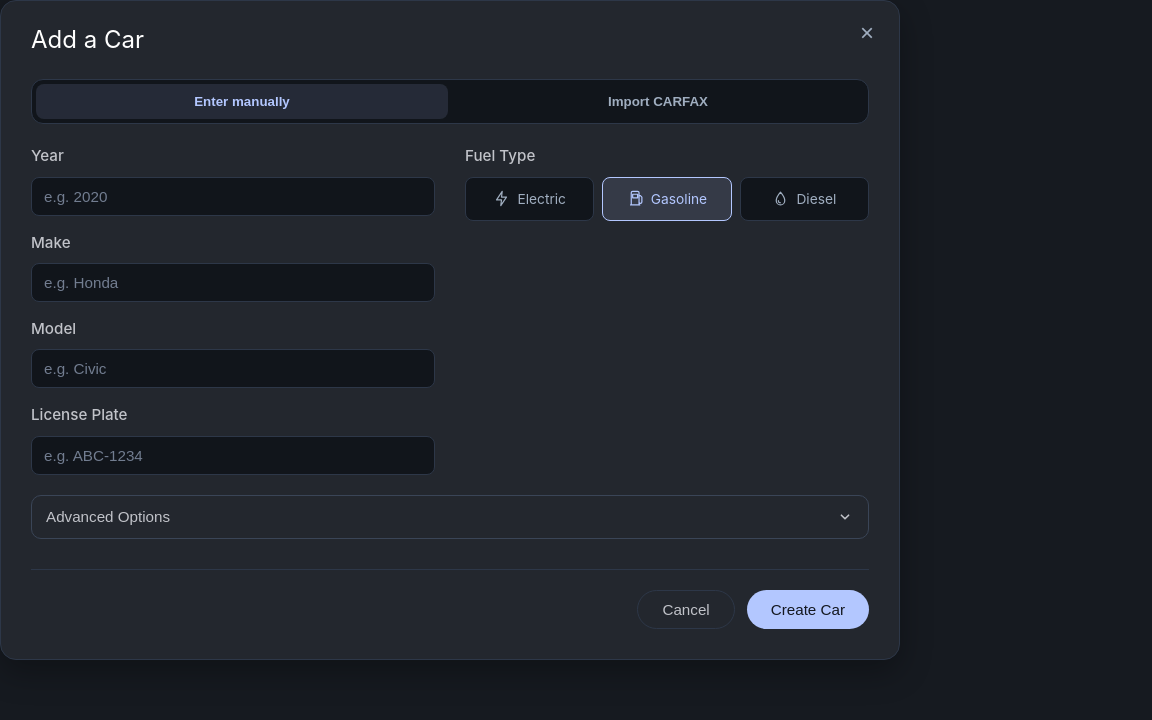
Test case: CarForm › keeps purchase prices formatted to two decimal places
This screenshot has width=1152, height=720.
Click the button with class "advanced-toggle" at (108, 517), box [32,496,868,538]
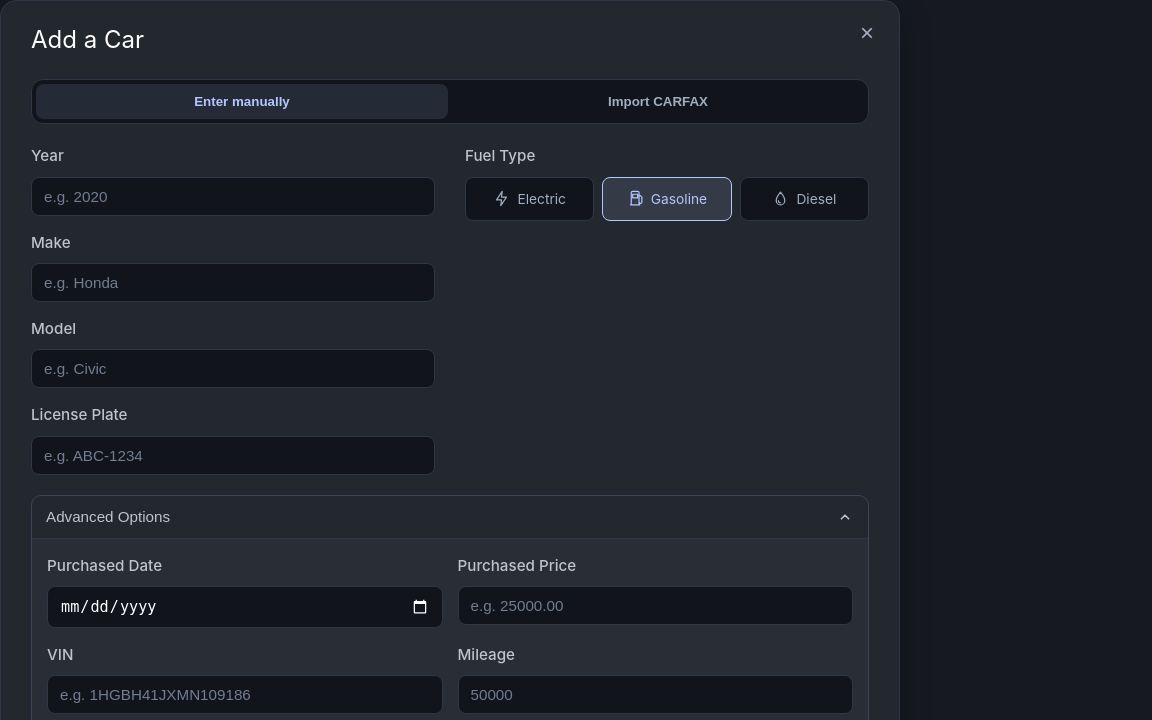
Type "2000.1" into the field with placeholder "e.g. 25000.00" at (655, 606), box [458,586,853,625]
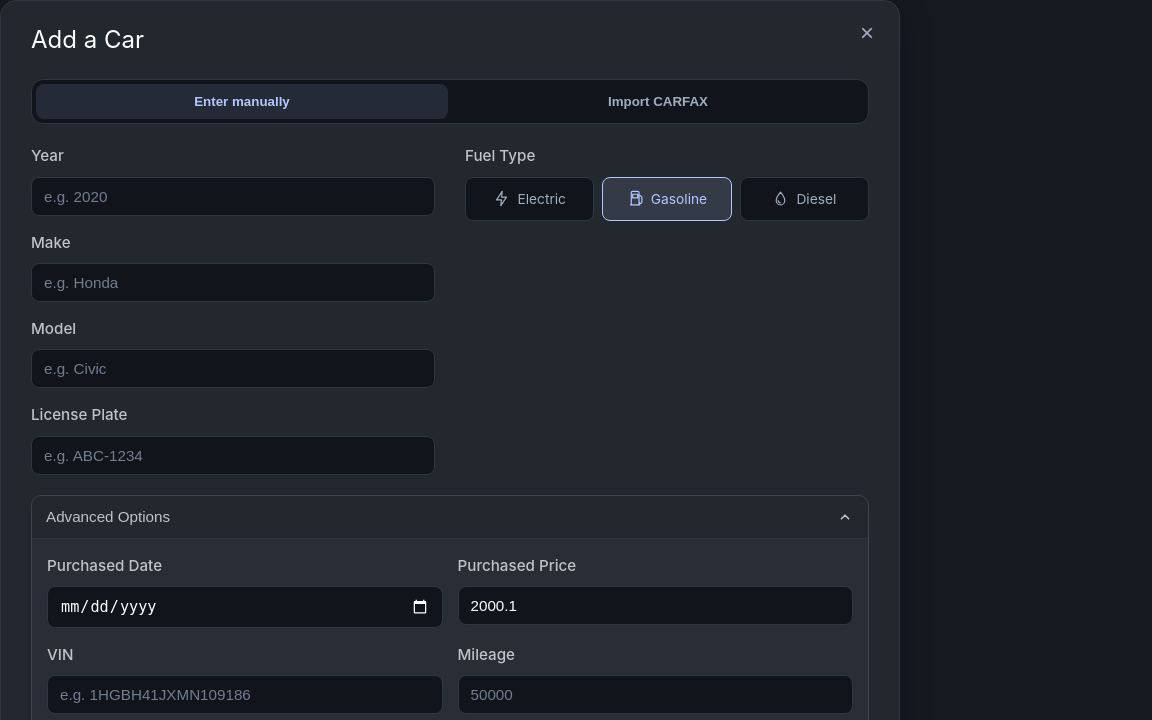
Leave the 5th field, box [458,586,853,625]
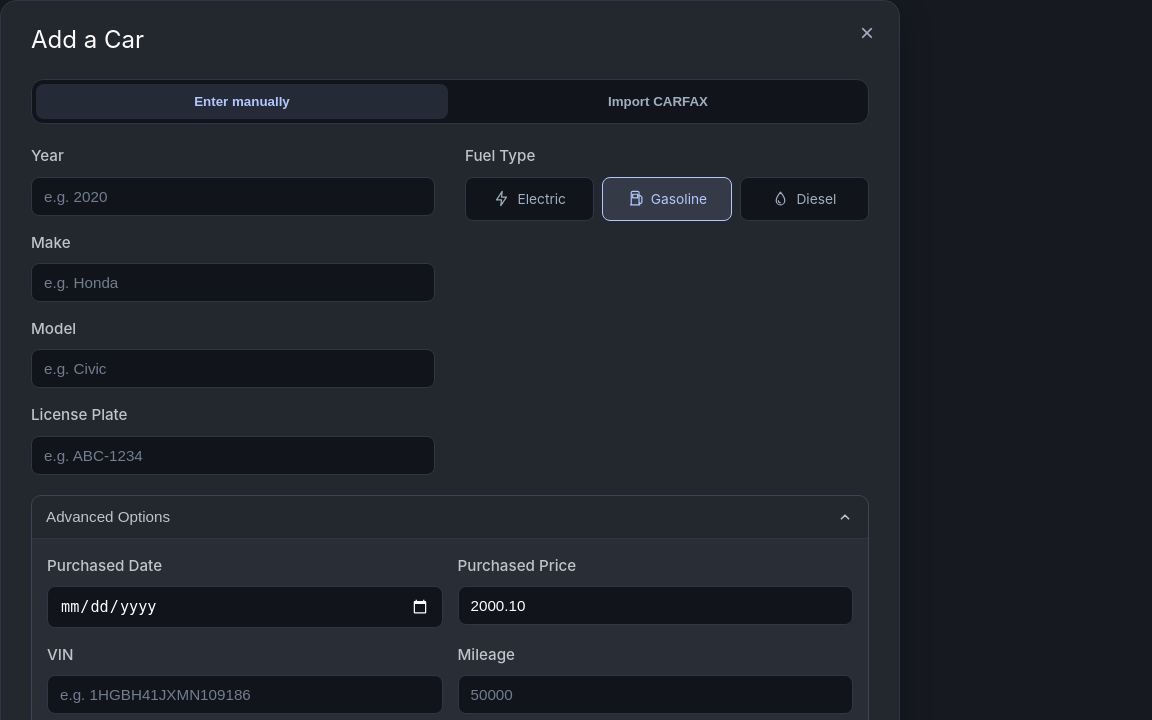
Check: the 5th field holds "2000.10", box [458,586,853,625]
